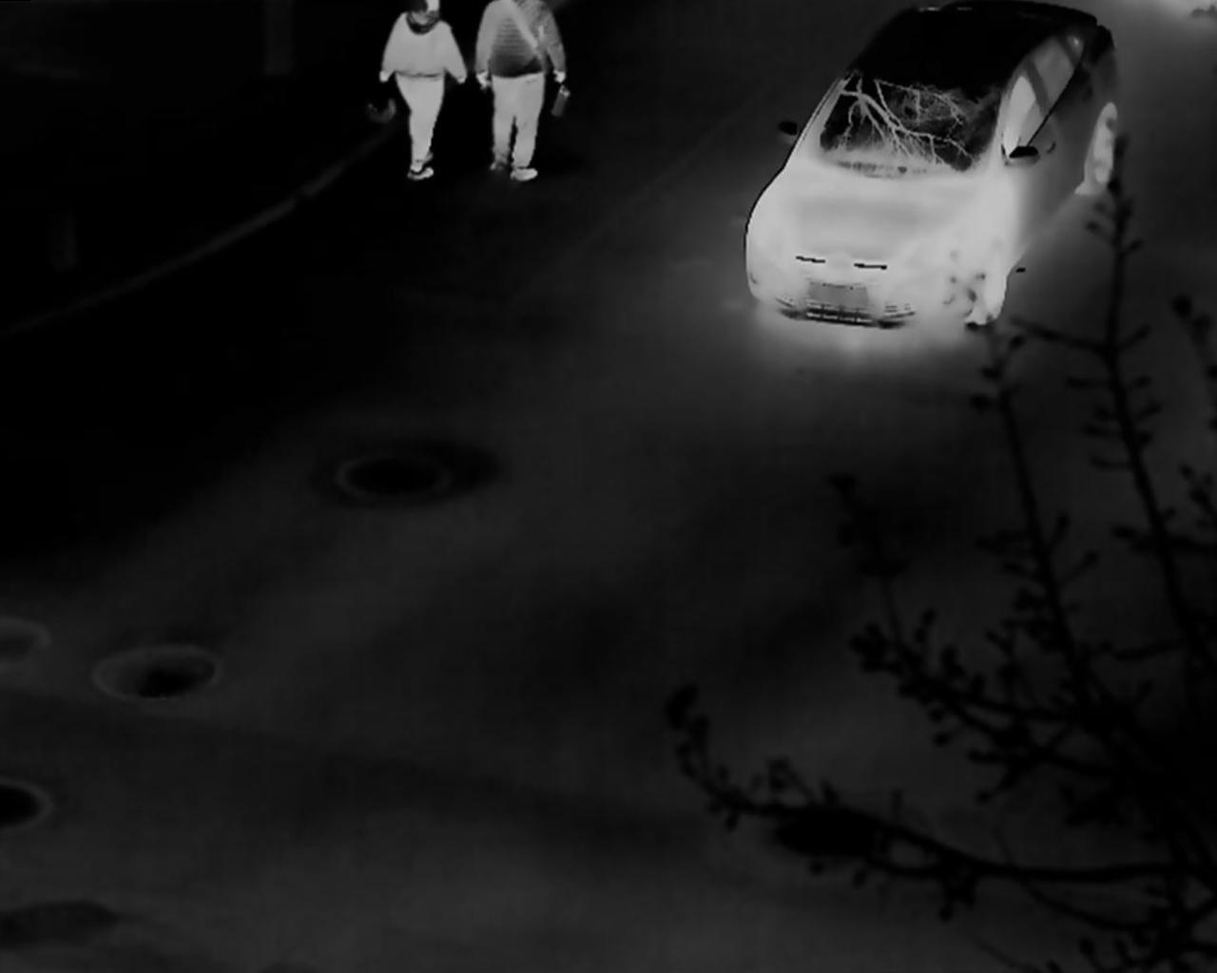person: (474, 2, 569, 182)
